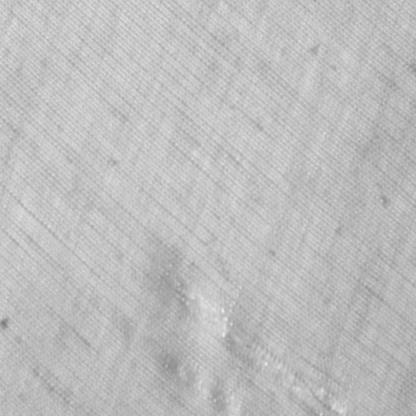thread error: (160, 254, 344, 416)
